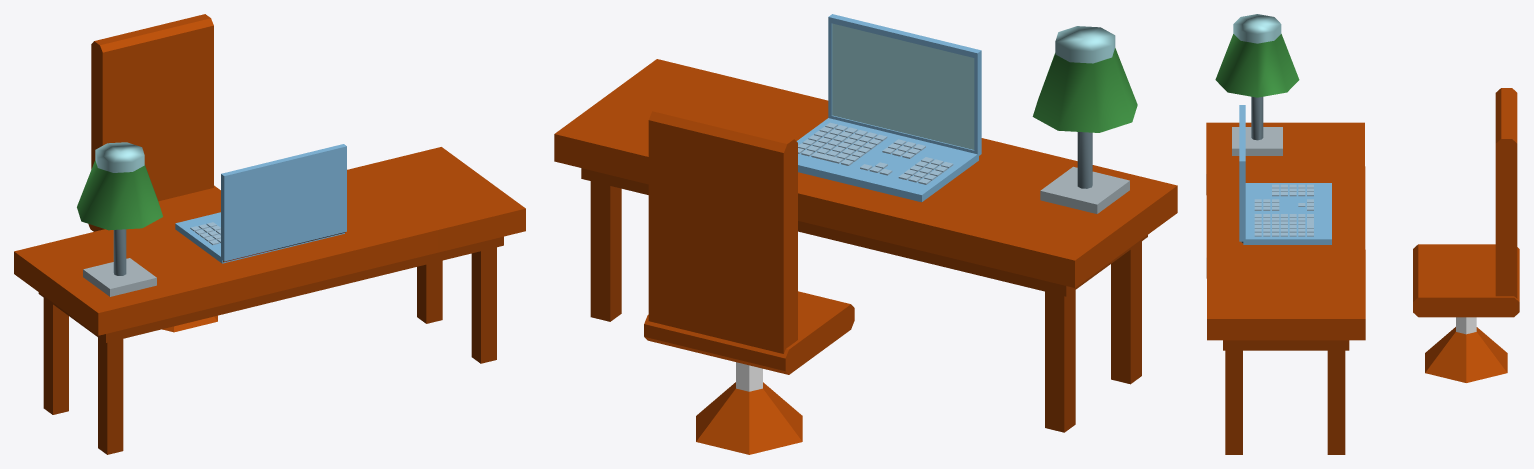
File: Work Table and Chair lv1.fbx
The picture shows the model from 3 angles, left to right: view 1: azimuth 30°, elevation 25°; view 2: azimuth 150°, elevation 25°; view 3: azimuth 270°, elevation 25°; orthographic projection. The views are drawn at different scales.
Visible parts, largest first — view 1: Work_Table_and_Chair_lv1; view 2: Work_Table_and_Chair_lv1; view 3: Work_Table_and_Chair_lv1.
Boxes of the visible parts, bbox=[...] form: Work_Table_and_Chair_lv1: bbox=[14, 14, 525, 454]; Work_Table_and_Chair_lv1: bbox=[554, 14, 1177, 454]; Work_Table_and_Chair_lv1: bbox=[1206, 14, 1519, 454].
Bounding box in the file's own units: 319 × 201 × 215.
